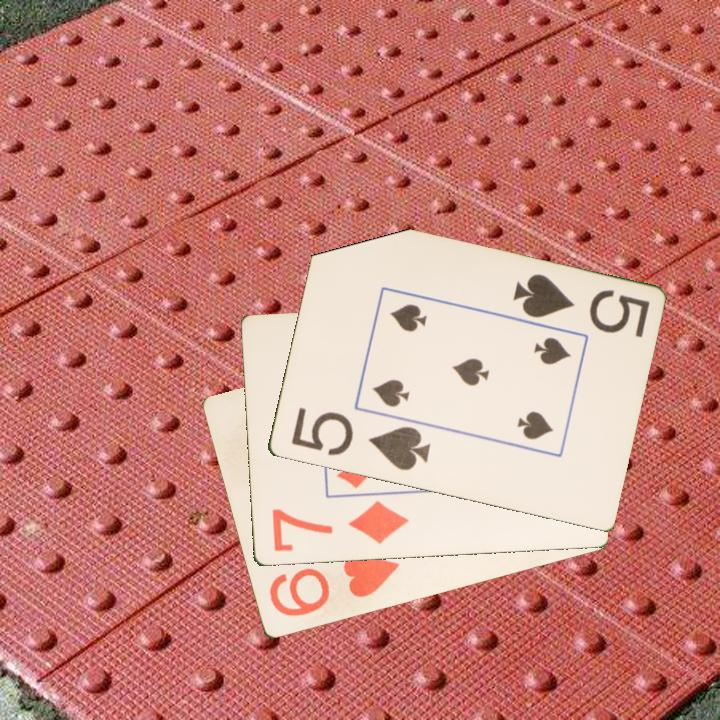5s: (508, 270, 652, 341), (287, 404, 433, 474)
6h: (265, 551, 403, 620)
7d: (267, 497, 411, 555)
